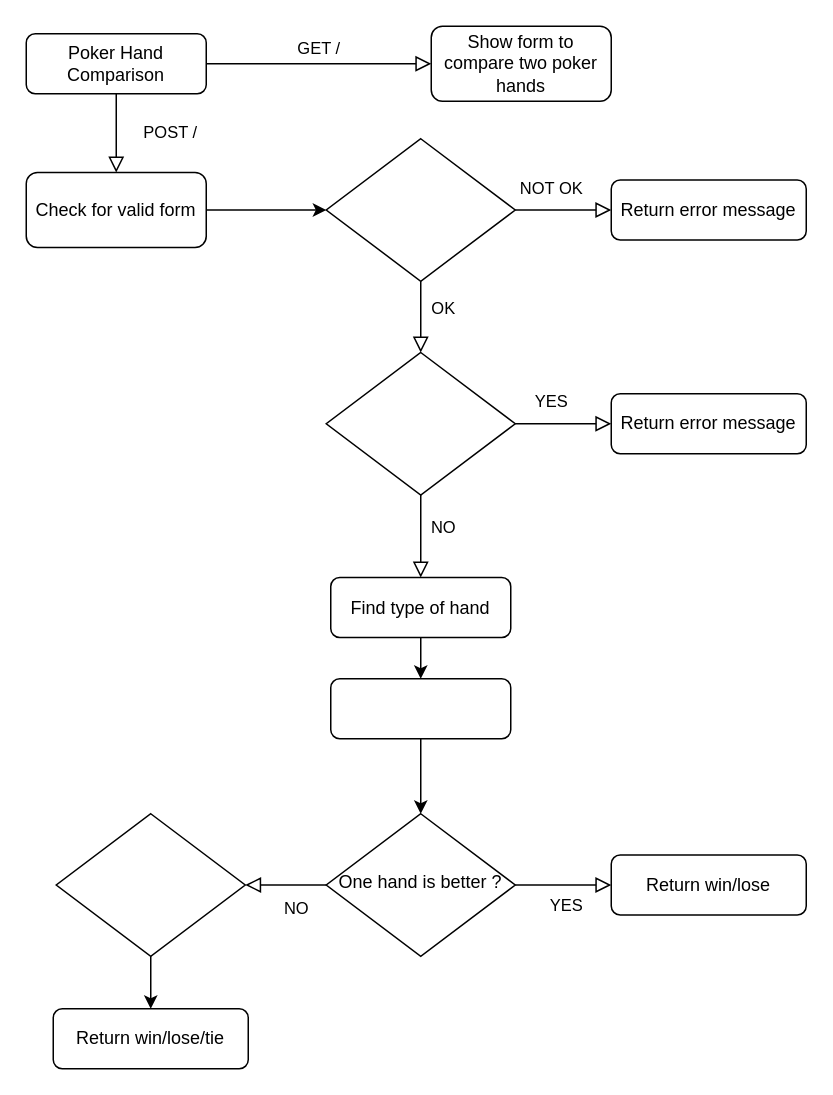
Some shapes in this 833 by 1095 pixel diagram are drawn without their labels. The centre of each missing label's shape, as x and y in pixels:
Check for tie rules: point 150,884
Compare players hand: point 420,708
Duplicate card ?: point 420,423
hands format ?: point 420,209
